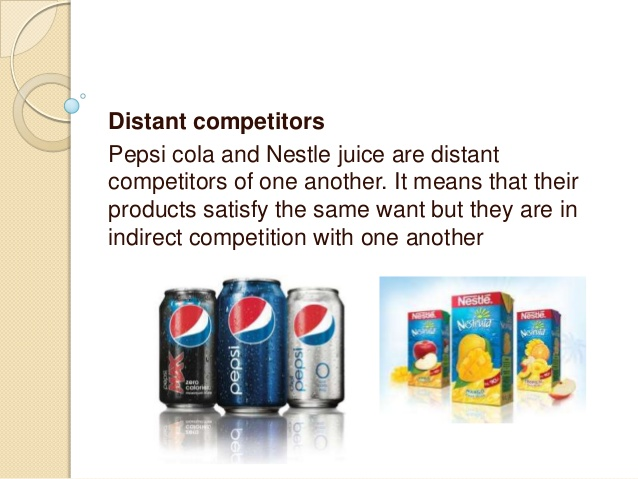pepsi: (225, 296, 274, 342), (166, 303, 211, 346), (294, 304, 332, 342)
